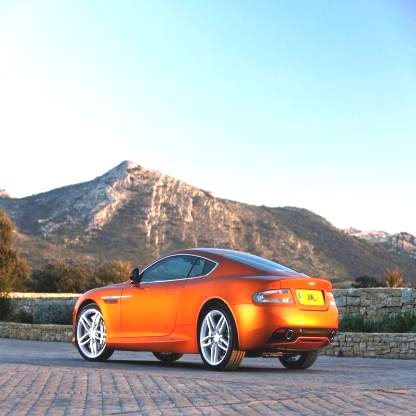Vehicle: (69, 245, 342, 371)
